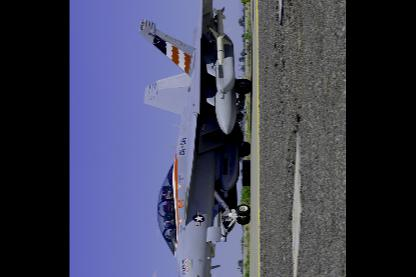F15: (140, 0, 252, 276)
